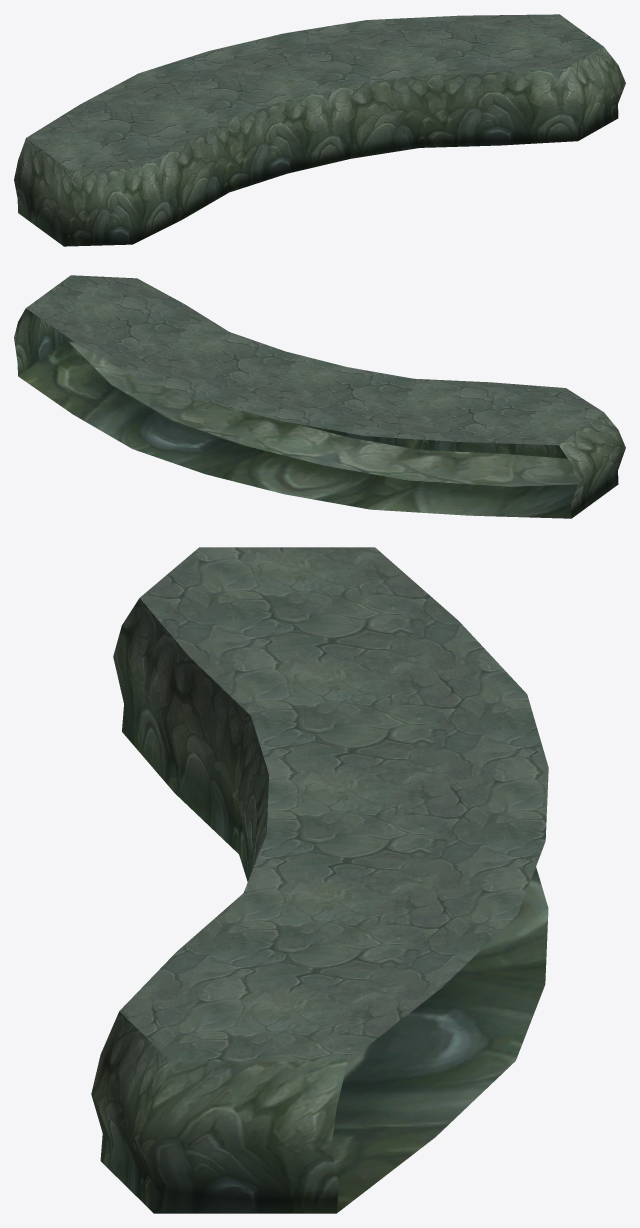
The model's file is environment_stone_renzaoshanti_001_a.FBX.
3 views of the same model, one above another, from view 1: azimuth 30°, elevation 25°; view 2: azimuth 150°, elevation 25°; view 3: azimuth 270°, elevation 25° (orthographic). The views are drawn at different scales.
Parts seen in each view (by area): view 1: environment_stone_renzaoshanti_001_a, environment_stone_renzaoshanti_001_b; view 2: environment_stone_renzaoshanti_001_a, environment_stone_renzaoshanti_001_b; view 3: environment_stone_renzaoshanti_001_b, environment_stone_renzaoshanti_001_a.
Part boxes in pixels (x1,y1,x2,y2): environment_stone_renzaoshanti_001_a: [14, 47, 625, 246]; environment_stone_renzaoshanti_001_b: [26, 14, 603, 170]; environment_stone_renzaoshanti_001_a: [14, 308, 625, 518]; environment_stone_renzaoshanti_001_b: [26, 275, 603, 445]; environment_stone_renzaoshanti_001_b: [119, 547, 548, 1061]; environment_stone_renzaoshanti_001_a: [91, 598, 548, 1213].
Bounding box in the file's own units: 3399 × 413 × 1207.
2 materials, 2 textured.
